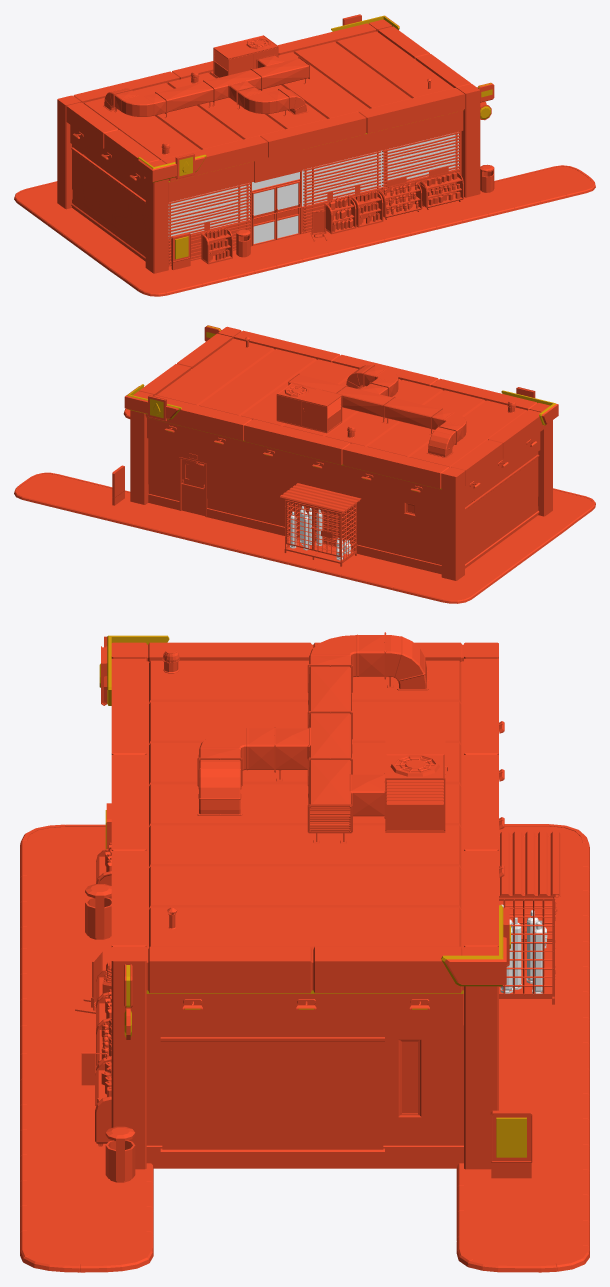
The model's file is SM_Gas_Station_City.fbx.
3 renders of one model, top to bottom at view 1: azimuth 30°, elevation 25°; view 2: azimuth 150°, elevation 25°; view 3: azimuth 270°, elevation 25°, orthographic. The views are drawn at different scales.
Parts seen in each view (by area): view 1: SM_Gas_Station_City_Base, SM_Gas_Station_City_Door_R, SM_Gas_Station_City_Door_L; view 2: SM_Gas_Station_City_Base; view 3: SM_Gas_Station_City_Base.
Boxes of the visible parts, x1,y1,x2,y2 form: SM_Gas_Station_City_Base: (14,14,595,296); SM_Gas_Station_City_Door_R: (252,186,276,245); SM_Gas_Station_City_Door_L: (276,181,300,239); SM_Gas_Station_City_Base: (14,325,595,603); SM_Gas_Station_City_Base: (20,632,589,1272).
Size of the model in its own units: 19.06 by 5.36 by 10.34.
